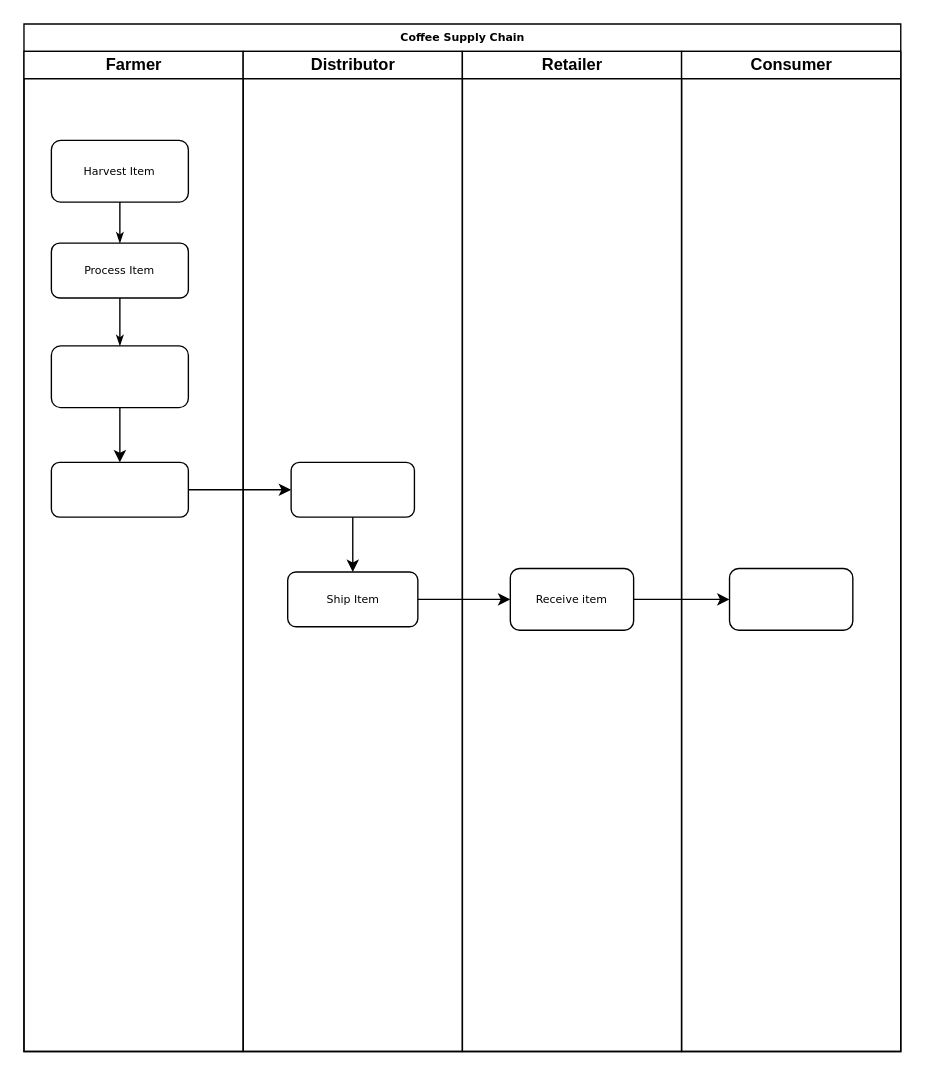
Some shapes in this 925 by 1075 pixel diagram are drawn without their labels. Each missing label, with the centre of its shape:
Buy Item: (x=352, y=489)
Pack Item: (x=119, y=376)
Purchase Item: (x=790, y=598)
Sell Item: (x=119, y=489)
